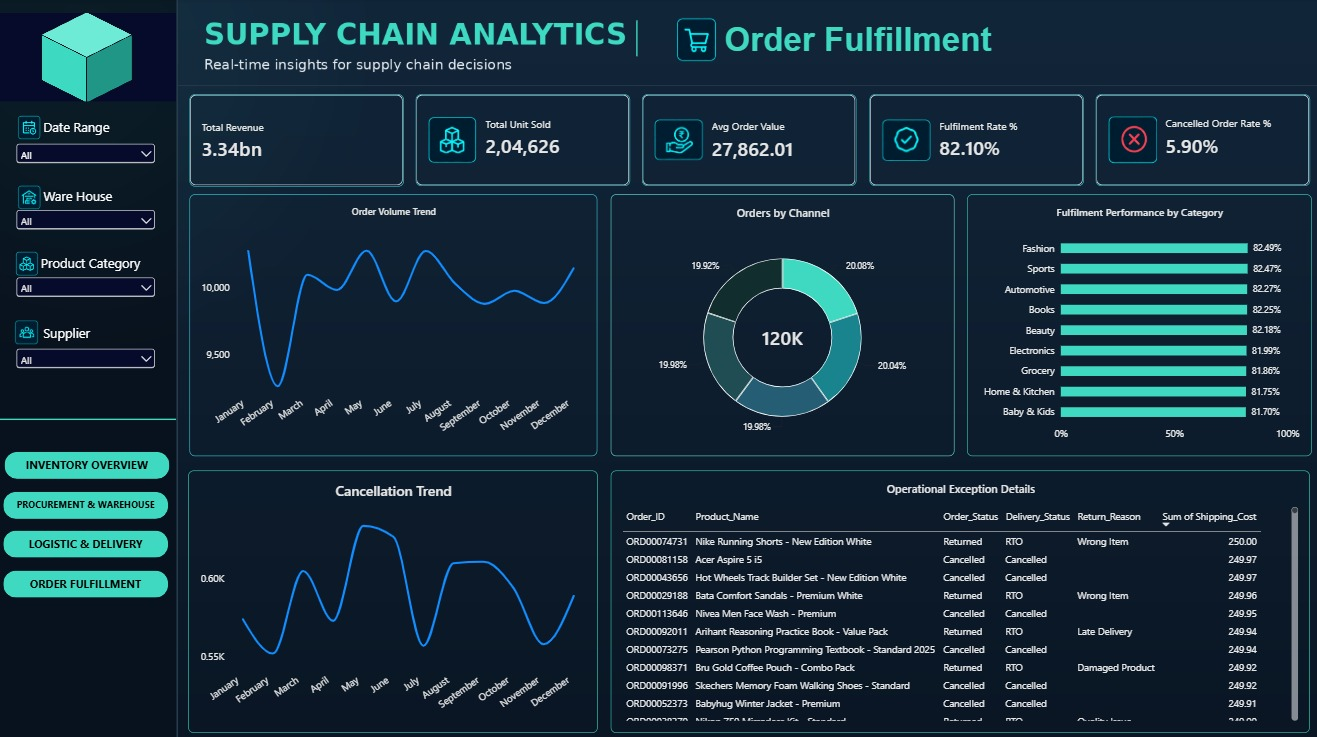

Layout of this report page (visuals, bound fields, positions):
{"tool":"powerbi","page":{"name":"Order Fulfillment ","canvas":[1920,1080],"ordinal":3},"visuals":[{"type":"image","box":[0,22.6,259.4,127.7],"z":0},{"type":"cardVisual","fields":{"Data":["Measure_Table.Total Unit Sold"]},"box":[606.4,139,310,133],"z":1000},{"type":"cardVisual","fields":{"Data":["Measure_Table.Avg Order Value"]},"box":[934.4,139,310,133],"z":2000},{"type":"cardVisual","fields":{"Data":["Measure_Table.Fulfilment Rate %"]},"box":[1262.3,139,310,133],"z":3000},{"type":"lineChart","title":"Order Volume Trend","fields":{"Category":["Sales_master.Order_Date.Variation.Date Hierarchy.Month"],"Y":["Count(Sales_master.Order_ID)"]},"box":[278.8,284.5,590.4,378.9],"z":4000},{"type":"donutChart","title":"Orders by Channel","fields":{"Category":["Sales_master.Order_Channel"],"Y":["CountNonNull(Sales_master.Order_ID)"]},"box":[889.2,284.5,497.5,378.9],"z":5000},{"type":"clusteredBarChart","title":"Fulfilment Performance by Category","fields":{"Category":["Product_master.Product_Category"],"Y":["Measure_Table.Fulfilment Rate by Category"]},"box":[1403.9,284.5,498.9,378.9],"z":6000},{"type":"lineChart","title":"Cancellation Trend","fields":{"Category":["Sales_master.Order_Date.Variation.Date Hierarchy.Month"],"Y":["Measure_Table.Cancelled Count"]},"box":[277.4,684.1,592.7,379.9],"z":7000},{"type":"textbox","box":[1052.8,31.9,418.4,58.2],"z":8000},{"type":"shape","box":[902,32.2,50.3,51.7],"z":9000},{"type":"slicer","title":"Date Range","fields":{"Values":["dim_date.Date_Value"]},"box":[24.3,205.9,210.1,38.6],"z":10000},{"type":"slicer","fields":{"Values":["Warehouse_master.Warehouse_City"]},"box":[24.3,303.1,210.1,38.6],"z":11000},{"type":"slicer","fields":{"Values":["Product_master.Product_Category"]},"box":[24.3,400.3,210.1,38.6],"z":12000},{"type":"slicer","fields":{"Values":["Supplier_master.Supplier_Name"]},"box":[24.3,503.2,210.1,38.6],"z":13000},{"type":"textbox","box":[66.5,173.9,171.6,31.9],"z":14000},{"type":"textbox","box":[66.5,273.6,187.5,30.6],"z":15000},{"type":"textbox","box":[63.5,370.4,178.7,30],"z":16000},{"type":"textbox","box":[66.5,473.2,194.2,27.9],"z":17000},{"type":"cardVisual","fields":{"Data":["Measure_Table.Cancelled Order Rate %"]},"box":[1590.3,139,310.3,133],"z":18000},{"type":"tableEx","title":"Operational Exception Details","fields":{"Values":["Delivery_master.Order_ID","Product_master.Product_Name","Delivery_master.Order_Status","Delivery_master.Delivery_Status","Delivery_master.Return_Reason","Sum(Delivery_master.Shipping_Cost)"]},"box":[889.1,684.1,1012,379.9],"z":19000},{"type":"cardVisual","fields":{"Data":["Measure_Table.Total Revenue"]},"box":[278.4,139,310,133.8],"z":20000},{"type":"image","box":[971.1,27.7,81.7,65.1],"z":21000},{"type":"actionButton","box":[10.6,657.6,238.9,39.3],"z":22000},{"type":"shape","box":[0,582,259.4,54.5],"z":23000},{"type":"actionButton","box":[9.1,715.1,238.9,39.3],"z":24000},{"type":"actionButton","box":[9.1,771,238.9,39.3],"z":25000},{"type":"actionButton","box":[9.1,828.5,238.9,39.3],"z":26000},{"type":"image","box":[27.2,170.8,39.3,34.8],"z":27000},{"type":"image","box":[27.2,270.6,39,34],"z":28000},{"type":"image","box":[24.2,367.4,39,34],"z":28001},{"type":"image","box":[24.2,467.1,39,34],"z":28002}]}

Visuals, with their boxes in screenshot pixels (x1, y1, x2, y2), scaled from the page's 1920x1080 canvas onto the 1317x737 screenshot:
image: 0, 15, 178, 103
cardVisual - Measure_Table.Total Unit Sold: 416, 95, 629, 186
cardVisual - Measure_Table.Avg Order Value: 641, 95, 854, 186
cardVisual - Measure_Table.Fulfilment Rate %: 866, 95, 1078, 186
"Order Volume Trend" lineChart: 191, 194, 596, 453
"Orders by Channel" donutChart: 610, 194, 951, 453
"Fulfilment Performance by Category" clusteredBarChart: 963, 194, 1305, 453
"Cancellation Trend" lineChart: 190, 467, 597, 726
textbox: 722, 22, 1009, 61
shape: 619, 22, 653, 57
"Date Range" slicer: 17, 141, 161, 167
slicer - Warehouse_master.Warehouse_City: 17, 207, 161, 233
slicer - Product_master.Product_Category: 17, 273, 161, 300
slicer - Supplier_master.Supplier_Name: 17, 343, 161, 370
textbox: 46, 119, 163, 140
textbox: 46, 187, 174, 208
textbox: 44, 253, 166, 273
textbox: 46, 323, 179, 342
cardVisual - Measure_Table.Cancelled Order Rate %: 1091, 95, 1304, 186
"Operational Exception Details" tableEx: 610, 467, 1304, 726
cardVisual - Measure_Table.Total Revenue: 191, 95, 404, 186
image: 666, 19, 722, 63
actionButton: 7, 449, 171, 476
shape: 0, 397, 178, 434
actionButton: 6, 488, 170, 515
actionButton: 6, 526, 170, 553
actionButton: 6, 565, 170, 592
image: 19, 117, 46, 140
image: 19, 185, 45, 208
image: 17, 251, 43, 274
image: 17, 319, 43, 342
